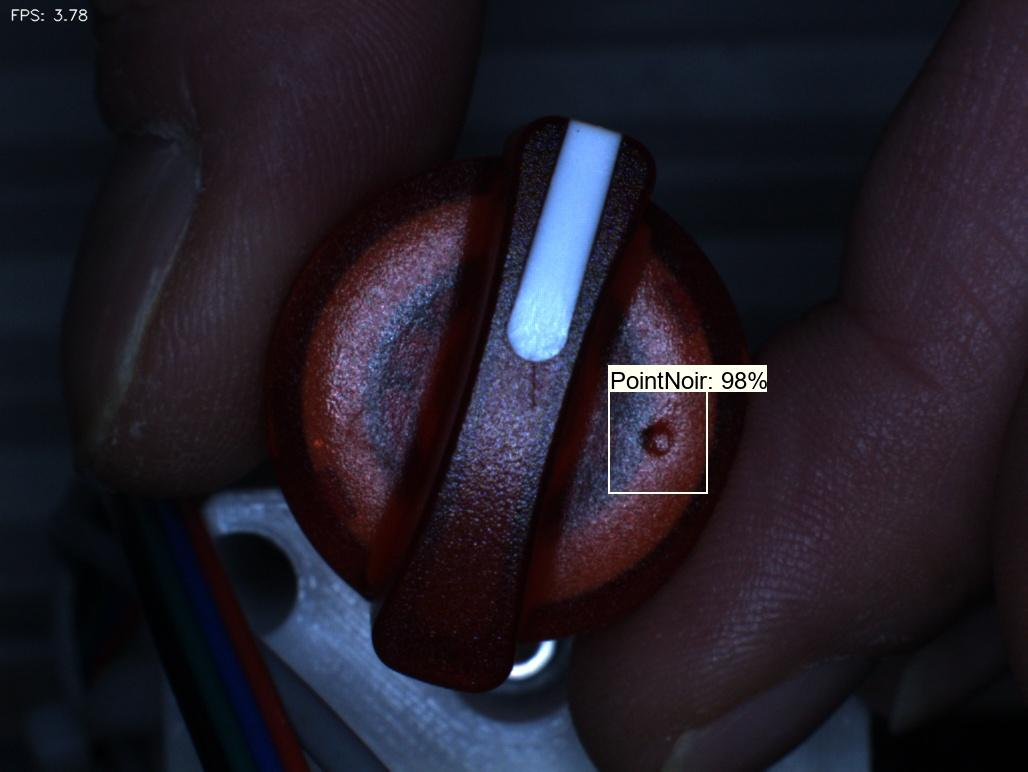Choc: (620, 395, 702, 486)
